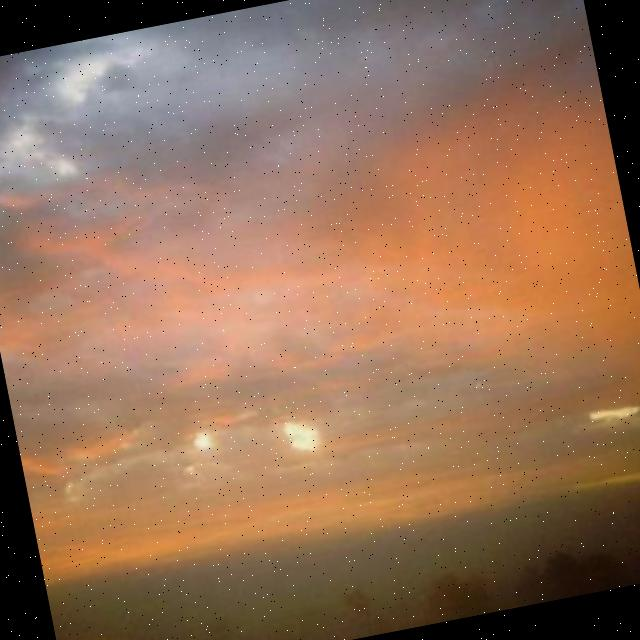Ac: (1, 1, 640, 490)
